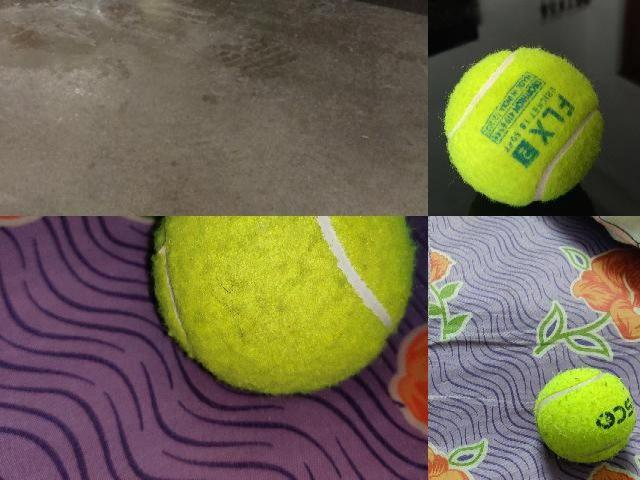tennis-ball: (151, 216, 415, 395), (442, 46, 604, 206), (534, 366, 636, 464)
